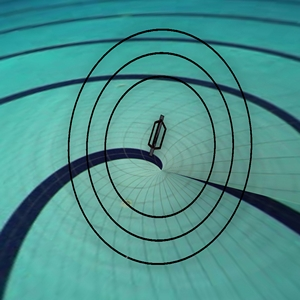circle: (53, 12, 262, 284)
submarine: (135, 108, 183, 167)
